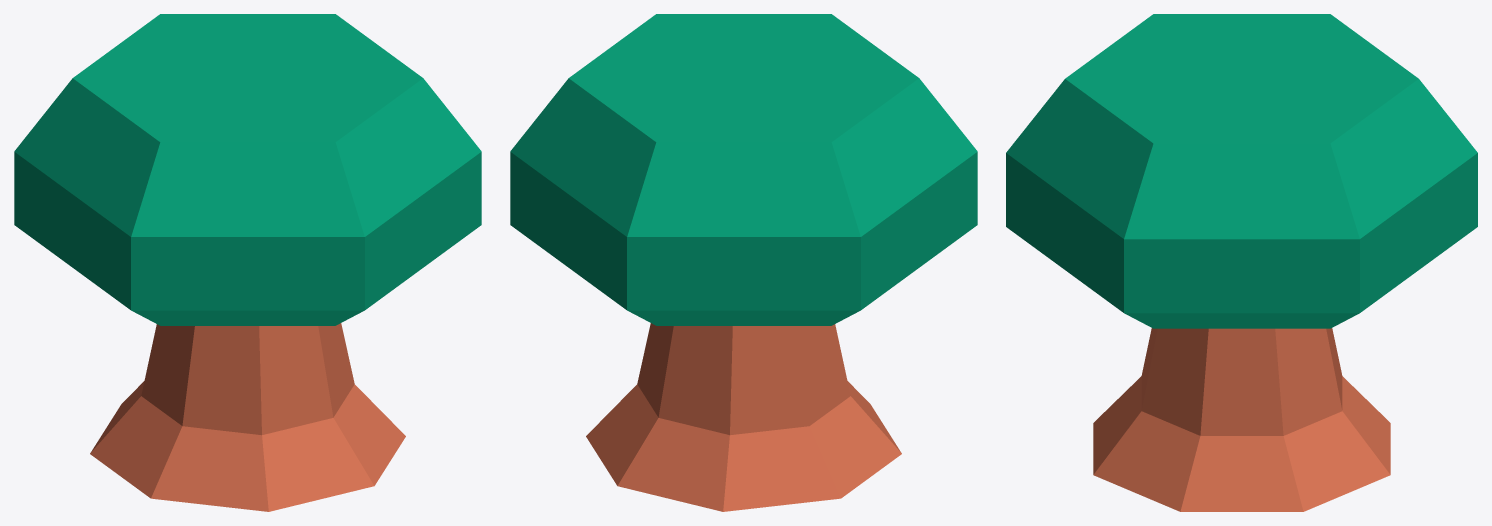
Rendered from Tree_3.fbx.
3 views of the same model, side by side, from view 1: azimuth 30°, elevation 25°; view 2: azimuth 150°, elevation 25°; view 3: azimuth 270°, elevation 25° (orthographic).
Visible parts, largest first — view 1: mergedBlocks; view 2: mergedBlocks; view 3: mergedBlocks.
Boxes of the visible parts, x1,y1,x2,y2 form: mergedBlocks: (14, 14, 481, 511); mergedBlocks: (510, 14, 977, 511); mergedBlocks: (1006, 14, 1477, 511).
Bounding box in the file's own units: 10 × 10 × 11.55.
